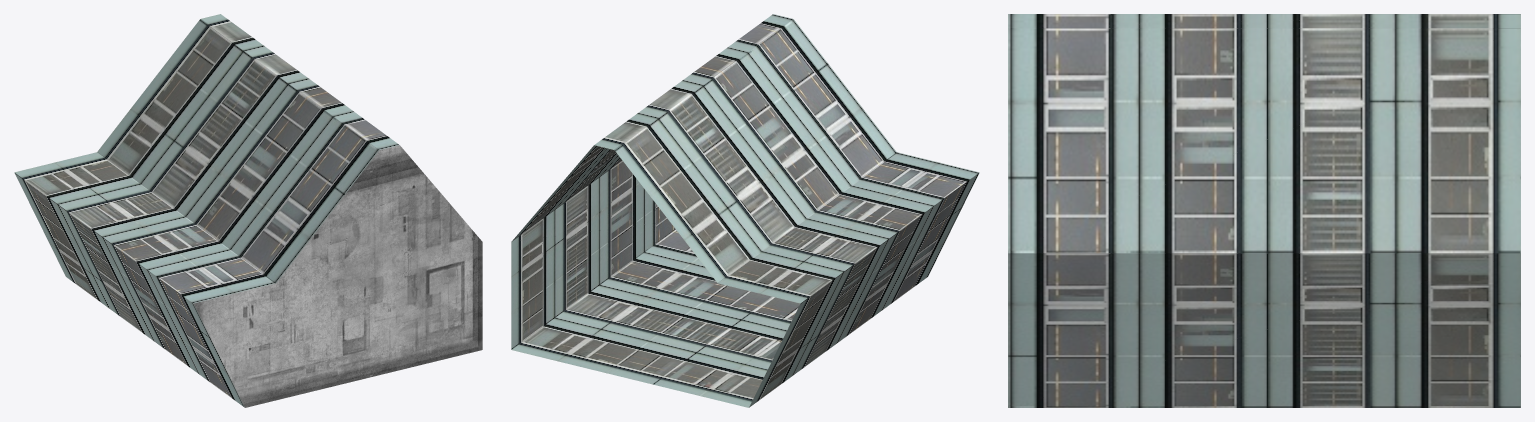
Rendered from building-49.obj.
The picture shows the model from 3 angles, left to right: view 1: azimuth 30°, elevation 25°; view 2: azimuth 150°, elevation 25°; view 3: azimuth 270°, elevation 25°; orthographic projection. The views are drawn at different scales.
Bounding box in the file's own units: 8.41 × 6.25 × 9.02.
